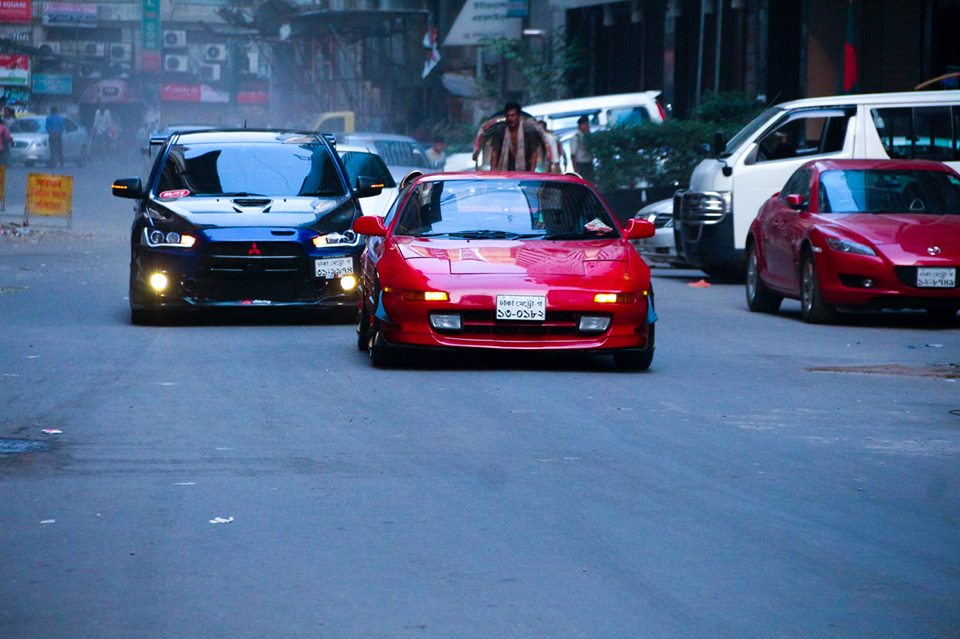registration_plate: (495, 294, 546, 320), (314, 256, 354, 276), (917, 268, 955, 287)
